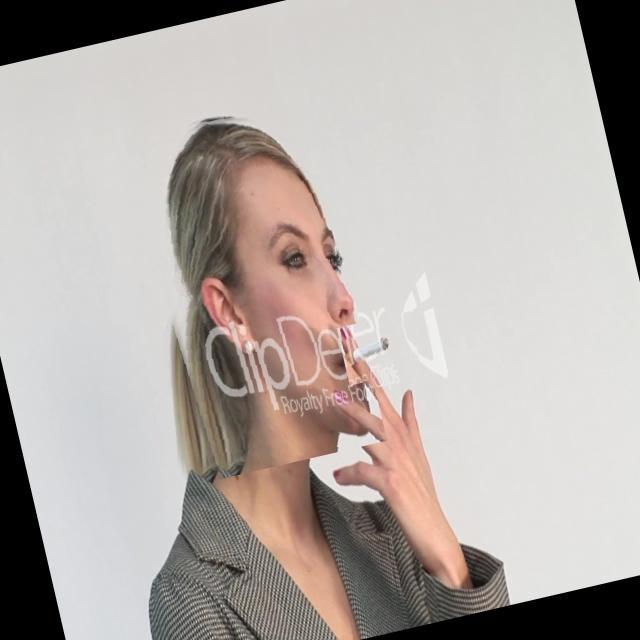cigarette: (336, 310, 424, 386)
